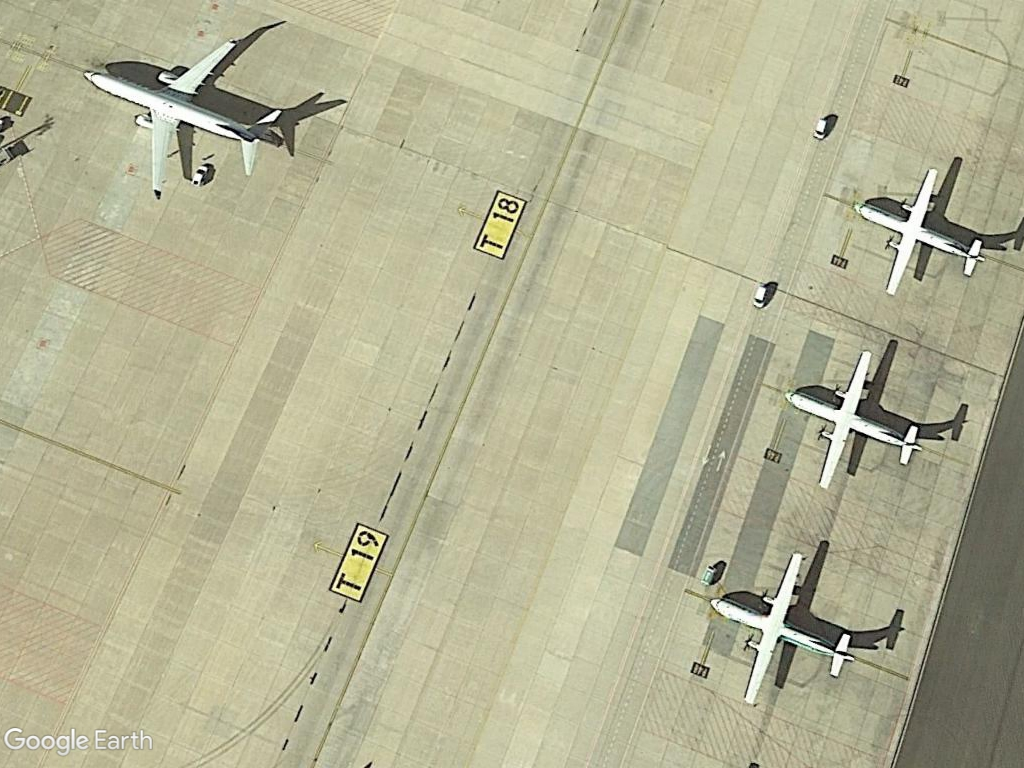airliner: (78, 28, 293, 204)
propeller: (710, 540, 857, 711), (784, 340, 926, 497), (847, 158, 994, 300)
